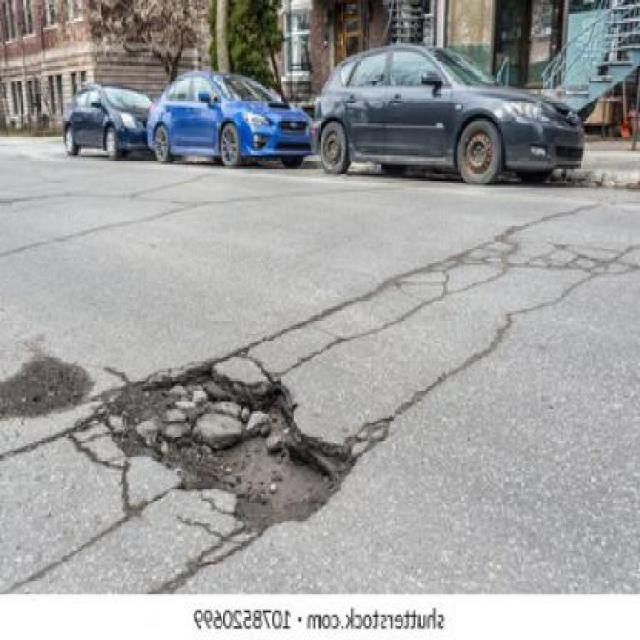Pothole: (99, 356, 362, 528)
